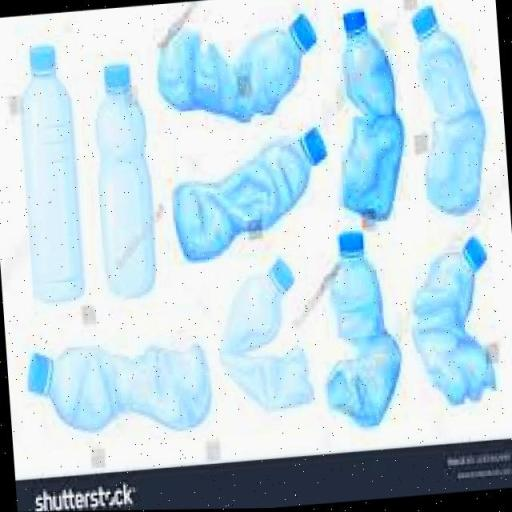plastic: (12, 310, 223, 462), (166, 124, 334, 266), (12, 30, 95, 312), (149, 2, 324, 135), (82, 54, 164, 312), (405, 0, 493, 226), (316, 228, 408, 430), (330, 10, 413, 231), (216, 254, 318, 420), (406, 234, 501, 412)
